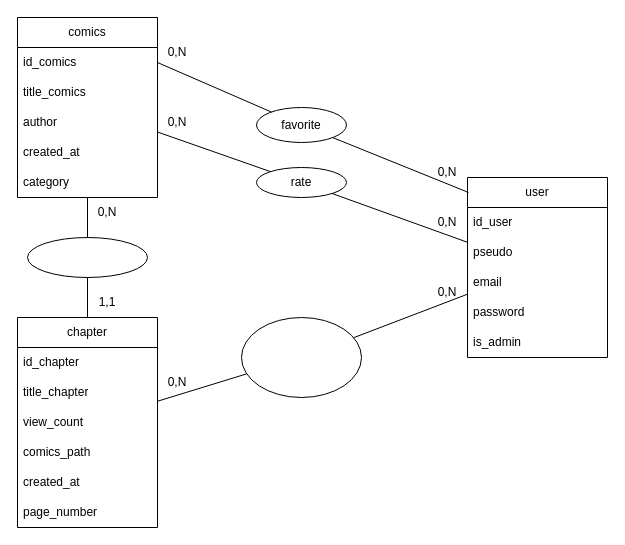
Image size: 625x545. Some labels were removed from this diagram. Here are the shapes that lost their labels. From the top down, the centre of each, then its label:
At point 87,257: "possède".
At point 301,357: "comment text_comment".
